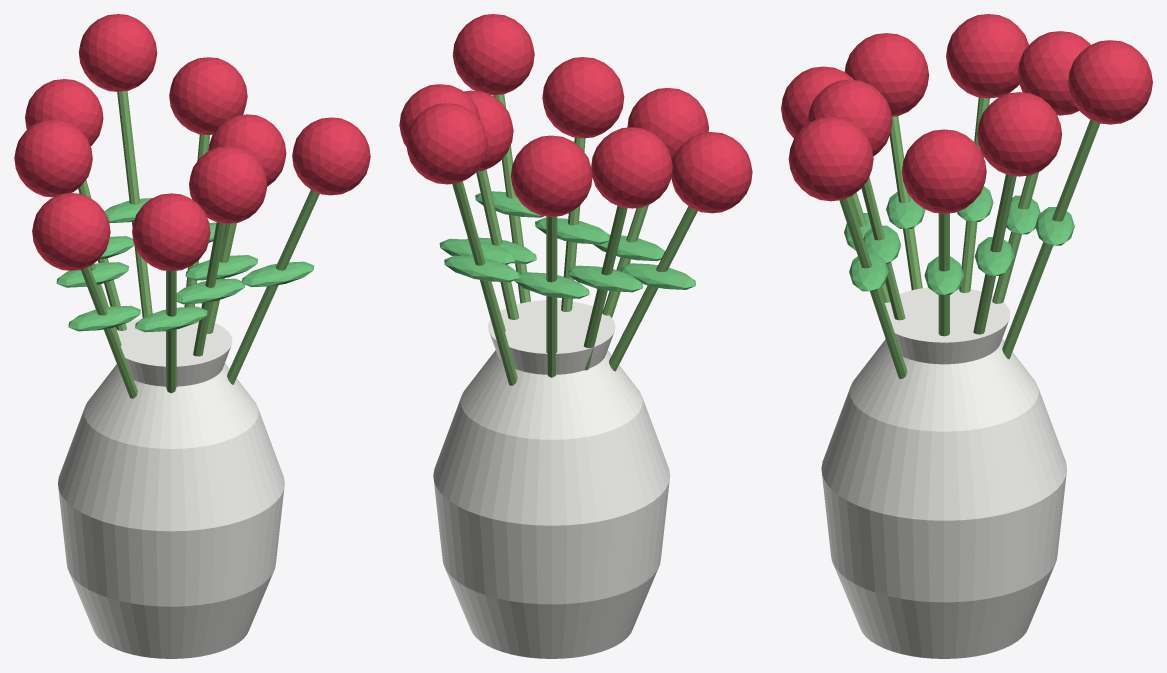
File: vase.glb
3 renders of one model, left to right at view 1: azimuth 30°, elevation 25°; view 2: azimuth 150°, elevation 25°; view 3: azimuth 270°, elevation 25°, orthographic. The views are drawn at different scales.
Parts seen in each view (by area): view 1: vase, roses, stems, leaves; view 2: vase, roses, stems, leaves; view 3: vase, roses, stems, leaves.
Part boxes in pixels (x1,y1,x2,y2): vase: [58, 318, 284, 658]; roses: [14, 14, 370, 271]; stems: [78, 91, 319, 398]; leaves: [56, 198, 314, 332]; vase: [433, 300, 670, 658]; roses: [399, 14, 752, 216]; stems: [452, 94, 697, 385]; leaves: [439, 191, 695, 298]; vase: [821, 287, 1066, 658]; roses: [781, 14, 1152, 213]; stems: [839, 97, 1099, 378]; leaves: [844, 186, 1074, 294].
Bounding box in the file's own units: 0.4 × 0.6906 × 0.3936.
